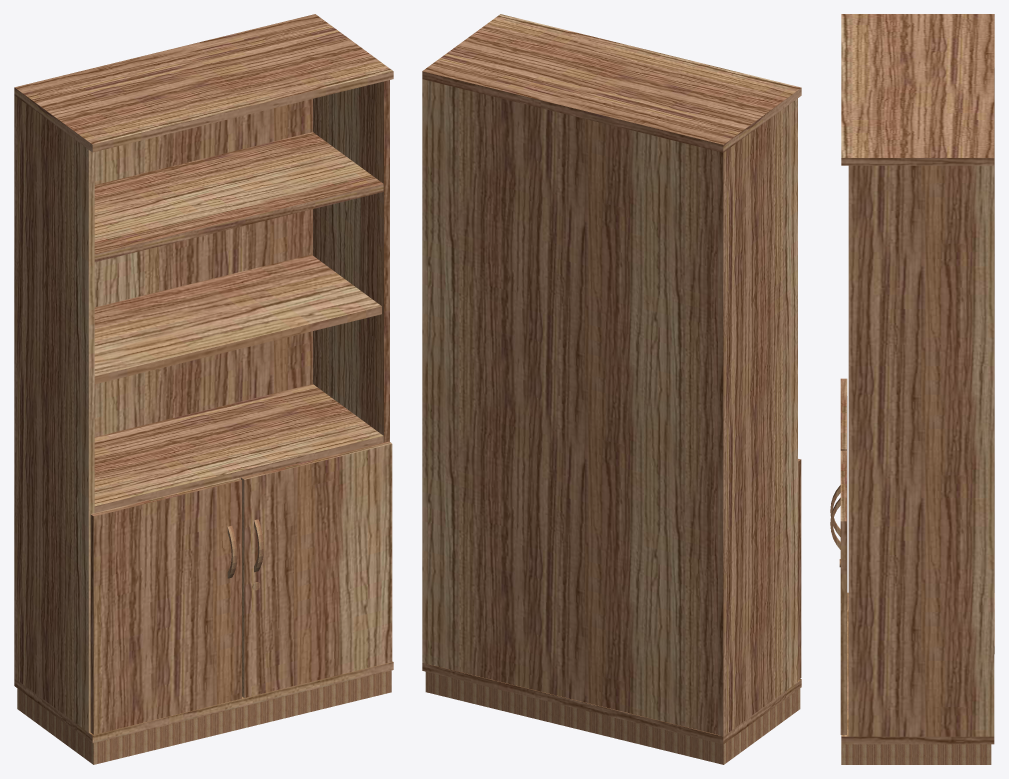
File: baseline_5OH_45x100_shelves_doors_combined_finala.fbx
3 renders of one model, left to right at view 1: azimuth 30°, elevation 25°; view 2: azimuth 150°, elevation 25°; view 3: azimuth 270°, elevation 25°, orthographic. The views are drawn at different scales.
Parts seen in each view (by area): view 1: drewno_mesh (×3), drewno2_mesh, metal_mesh; view 2: drewno_mesh (×2), metal_mesh; view 3: drewno_mesh (×3), metal_mesh.
Boxes of the visible parts, box(x1,y1,x2,y2) form: drewno_mesh (×3): box(14, 14, 393, 743); drewno2_mesh: box(94, 132, 383, 512); metal_mesh: box(17, 670, 391, 764); drewno_mesh (×2): box(422, 14, 801, 744); metal_mesh: box(425, 672, 800, 764); drewno_mesh (×3): box(840, 14, 994, 744); metal_mesh: box(841, 744, 991, 764).
Bounding box in the file's own units: 254 × 501 × 123.
